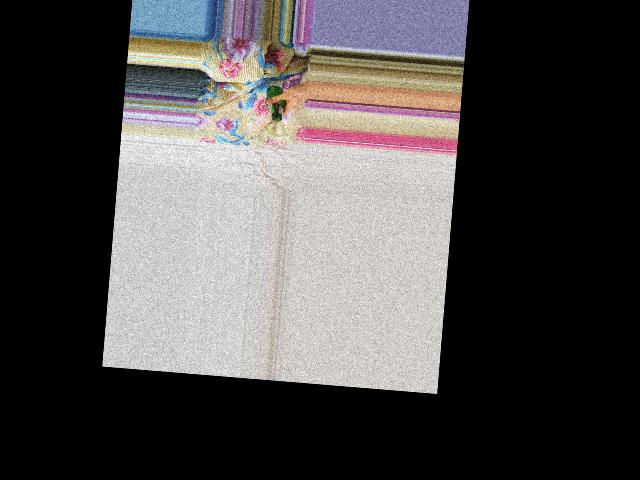beer: (264, 84, 288, 121)
